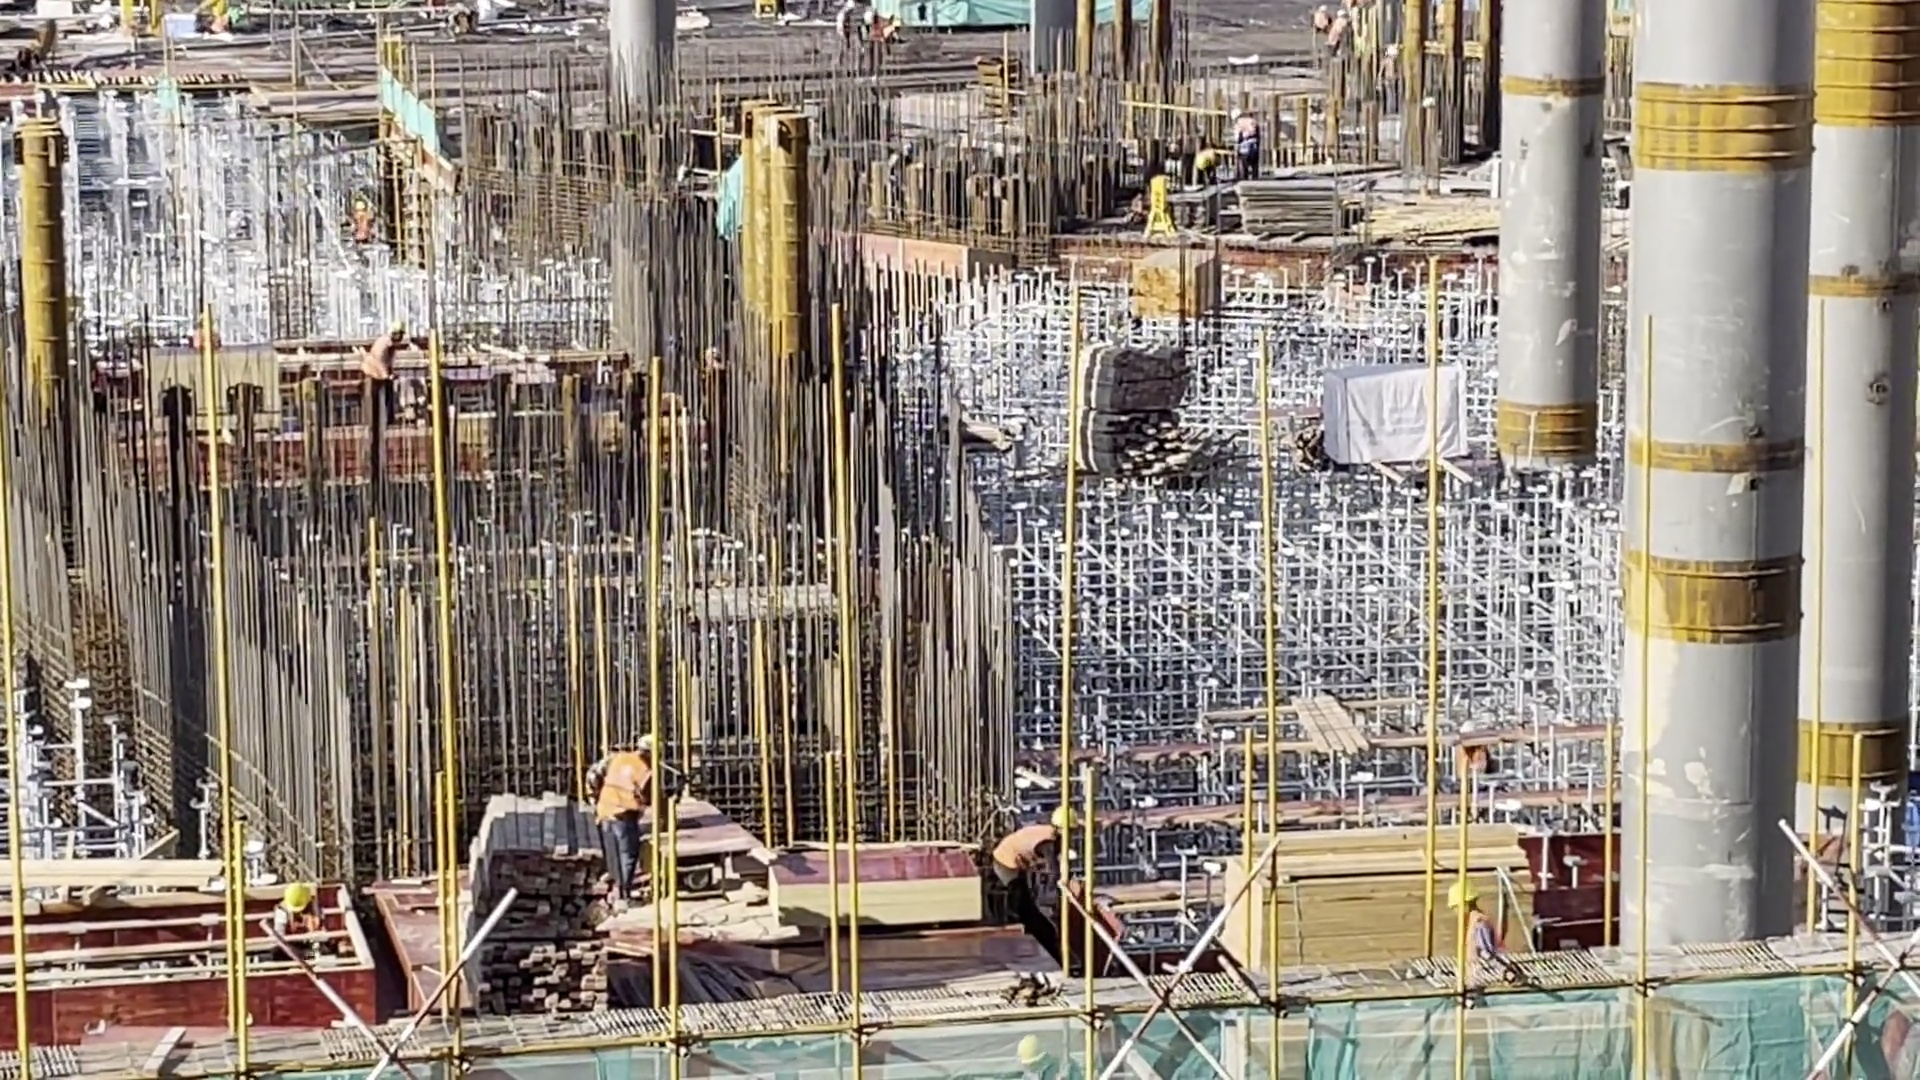helmet: (1441, 880, 1496, 916), (270, 878, 318, 915), (1041, 802, 1088, 835), (629, 724, 659, 763)
person: (575, 722, 686, 909), (980, 789, 1080, 939), (1434, 882, 1514, 979), (255, 869, 337, 948)
vest: (987, 822, 1056, 882), (596, 750, 649, 823), (1457, 911, 1500, 972)
wood: (1204, 806, 1543, 980), (469, 764, 633, 1028)
